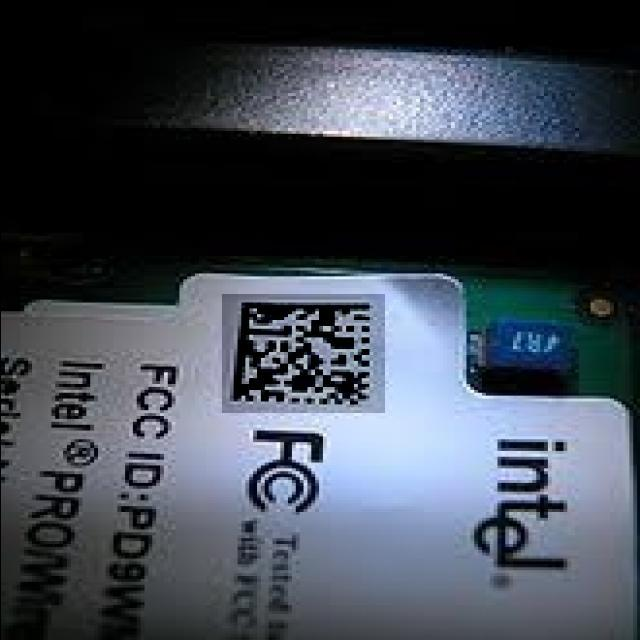Data-Matrix: (221, 294, 384, 413)
